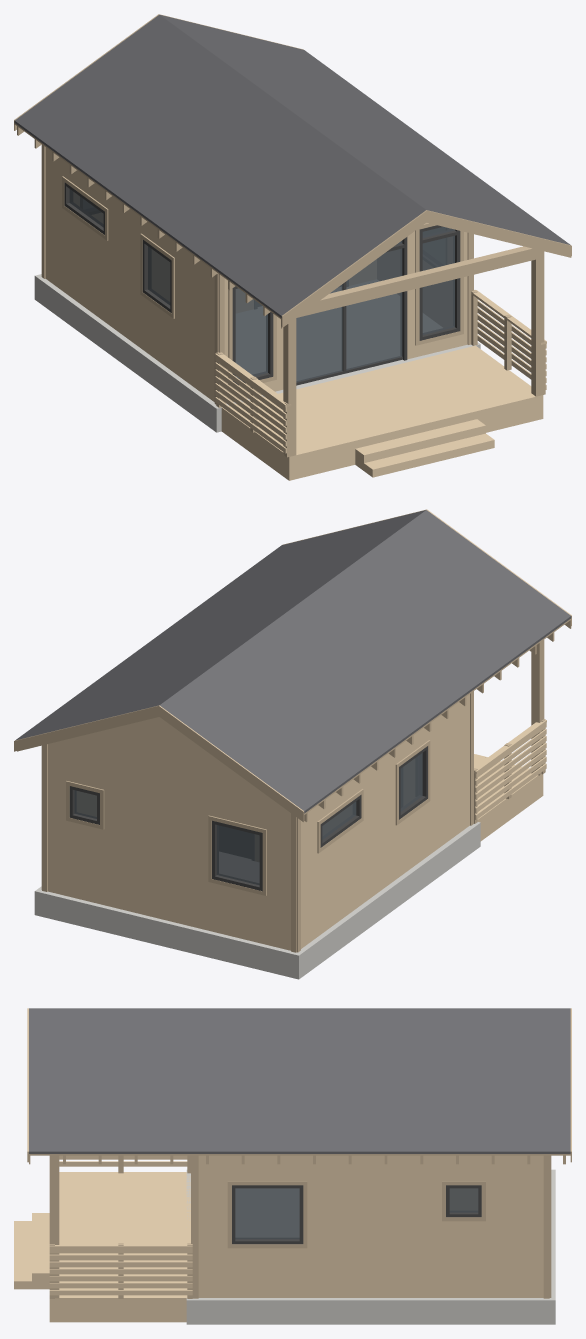
Rendered from cabin-1br-terrace-5x6_3d.glb.
3 renders of one model, top to bottom at view 1: azimuth 30°, elevation 25°; view 2: azimuth 150°, elevation 25°; view 3: azimuth 270°, elevation 25°, orthographic.
Visible parts, largest first — view 1: roof_tiles, wood, trim, glass, slab, frame, wood_in, rafters; view 2: roof_tiles, wood, slab, trim, glass, frame, rafters, door; view 3: roof_tiles, wood, slab, trim, glass, frame, sheathing, wood_in, rafters.
Part boxes in pixels (bbox=[...]): roof_tiles: bbox=[14, 14, 570, 317]; wood: bbox=[45, 147, 546, 480]; trim: bbox=[14, 14, 571, 457]; glass: bbox=[69, 189, 454, 382]; slab: bbox=[34, 274, 480, 432]; frame: bbox=[64, 182, 460, 385]; wood_in: bbox=[152, 250, 376, 312]; rafters: bbox=[17, 126, 571, 328]; roof_tiles: bbox=[15, 510, 571, 813]; wood: bbox=[48, 694, 546, 950]; slab: bbox=[34, 822, 480, 979]; trim: bbox=[14, 509, 571, 952]; glass: bbox=[74, 753, 422, 885]; frame: bbox=[69, 746, 427, 891]; rafters: bbox=[17, 620, 571, 821]; door: bbox=[219, 826, 250, 858]; roof_tiles: bbox=[29, 1008, 570, 1153]; wood: bbox=[14, 1155, 543, 1322]; slab: bbox=[186, 1169, 555, 1324]; trim: bbox=[27, 1008, 571, 1298]; glass: bbox=[235, 1188, 478, 1239]; frame: bbox=[232, 1185, 481, 1244]; sheathing: bbox=[29, 1154, 570, 1155]; wood_in: bbox=[450, 1189, 477, 1209]; rafters: bbox=[29, 1155, 565, 1164].
Bounding box in the file's own units: 5.7 × 4.65 × 9.38.
